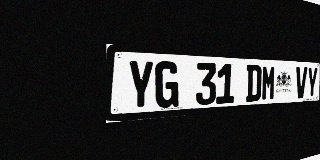1: (216, 63, 235, 104)
3: (196, 63, 216, 106)
D: (246, 65, 262, 102)
G: (155, 61, 179, 109)
M: (261, 65, 276, 101)
V: (295, 67, 307, 99)
Y: (127, 60, 154, 111), (306, 67, 318, 98)
